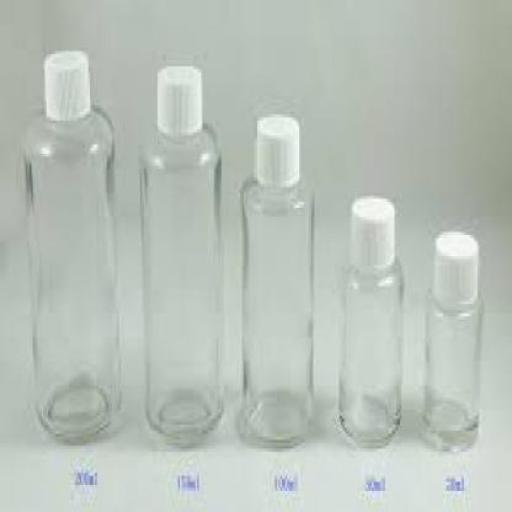glass: (22, 103, 116, 434), (137, 123, 220, 443), (240, 175, 310, 443), (341, 250, 401, 445), (424, 283, 478, 452)
plastic: (432, 229, 476, 308), (42, 48, 90, 118), (154, 64, 200, 135), (254, 112, 297, 186), (350, 198, 392, 268)
